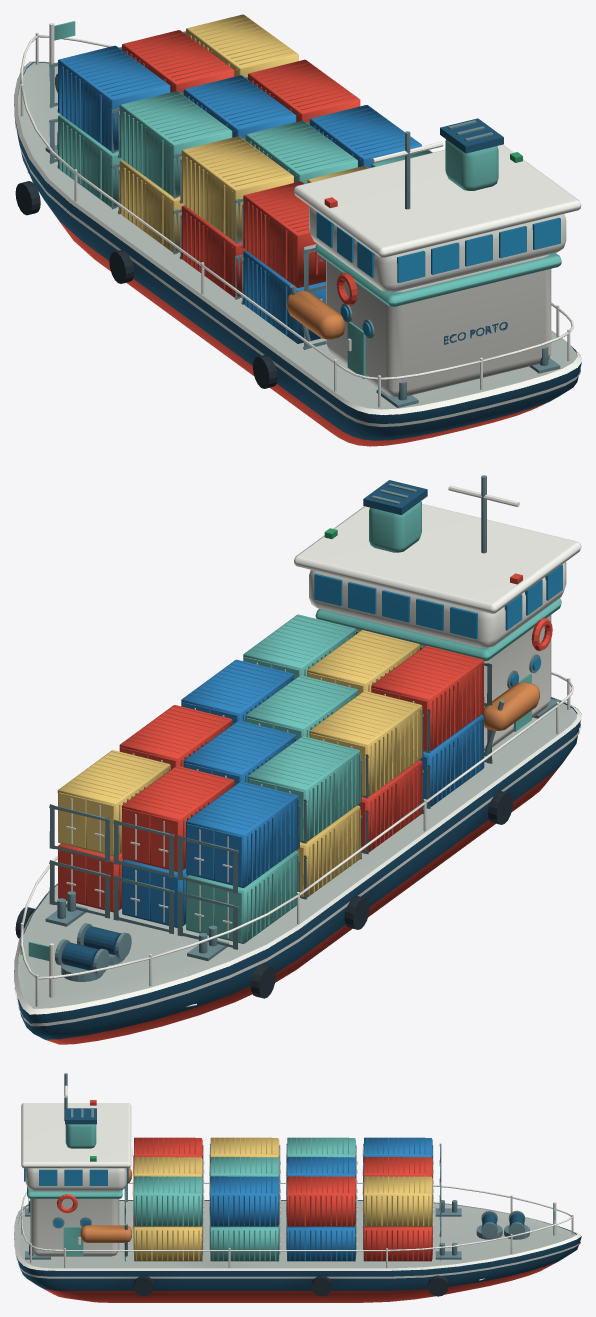
The model's file is cargo-ship-low.glb.
The picture shows the model from 3 angles, top to bottom: view 1: azimuth 30°, elevation 25°; view 2: azimuth 150°, elevation 25°; view 3: azimuth 270°, elevation 25°; orthographic projection. The views are drawn at different scales.
Parts seen in each view (by area): view 1: white sheer stripe, curved lower hull, corrugated wall.007, corrugated wall.001, continuous navy hull, corrugated wall.005, sealed working deck, bridge front glazing, sign EQ.001, rubber fender, covered rescue boat; view 2: white sheer stripe, curved lower hull, corrugated wall.007, corrugated wall.001, corrugated wall.005, sealed working deck, continuous navy hull, sign EQ.001, bridge front glazing, rubber fender, covered rescue boat; view 3: white sheer stripe, curved lower hull, corrugated wall.007, continuous navy hull, sealed working deck, corrugated wall.001, corrugated wall.005, sign EQ.001, bridge front glazing, rubber fender, covered rescue boat.
Boxes of the visible parts, x1,y1,x2,y2 form: white sheer stripe: (14, 23, 581, 426); curved lower hull: (48, 30, 548, 446); corrugated wall.007: (54, 21, 561, 378); corrugated wall.001: (57, 45, 421, 343); continuous navy hull: (14, 62, 581, 440); corrugated wall.005: (119, 14, 368, 252); sealed working deck: (18, 62, 576, 409); bridge front glazing: (316, 212, 560, 336); sign EQ.001: (45, 31, 560, 407); rubber fender: (15, 181, 277, 388); covered rescue boat: (286, 290, 344, 339); white sheer stripe: (14, 485, 581, 1026); curved lower hull: (45, 573, 560, 1044); corrugated wall.007: (28, 501, 561, 960); corrugated wall.001: (122, 659, 484, 927); corrugated wall.005: (57, 630, 422, 897); sealed working deck: (18, 703, 576, 1008); continuous navy hull: (14, 480, 581, 1039); sign EQ.001: (45, 475, 560, 981); bridge front glazing: (314, 564, 562, 686); rubber fender: (15, 791, 512, 998); covered rescue boat: (482, 682, 539, 730); white sheer stripe: (14, 1085, 581, 1280); curved lower hull: (41, 1100, 556, 1302); corrugated wall.007: (27, 1124, 555, 1261); continuous navy hull: (14, 1108, 581, 1290); sealed working deck: (18, 1201, 576, 1268); corrugated wall.001: (209, 1137, 432, 1261); corrugated wall.005: (133, 1137, 432, 1261); sign EQ.001: (25, 1073, 529, 1261); bridge front glazing: (24, 1168, 128, 1227); rubber fender: (133, 1275, 448, 1296); covered rescue boat: (80, 1168, 131, 1242).
Bounding box in the file's own units: 2.55 × 3.08 × 8.3.
